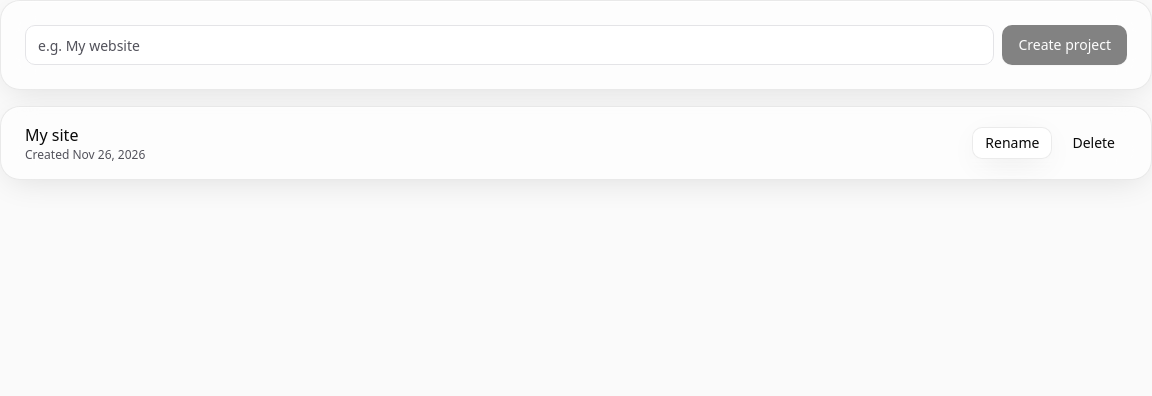
Test: delete › shows the server's error if the delete fails
Click the button "Delete".
click(1094, 143)  # box [1060, 127, 1127, 159]
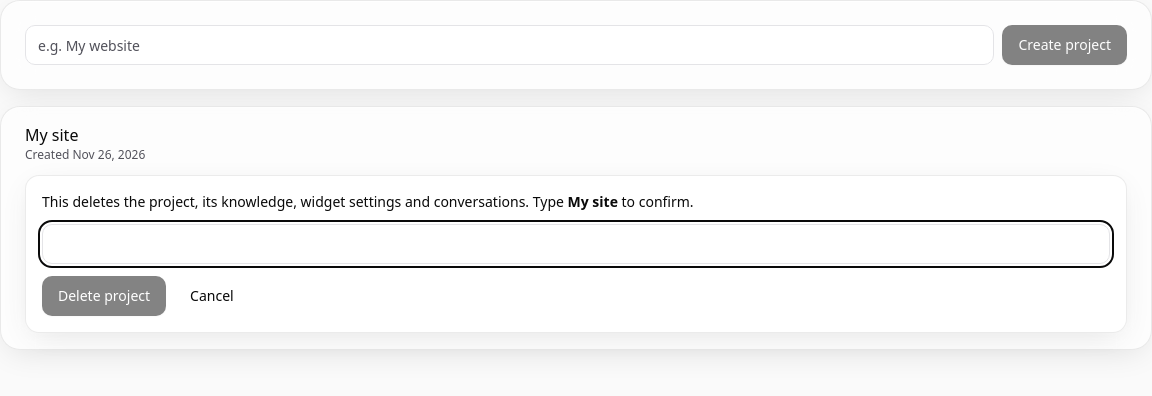
Type "My site" into the field named "Project name to confirm".
click(576, 244); type("My site")  # box [42, 224, 1110, 264]
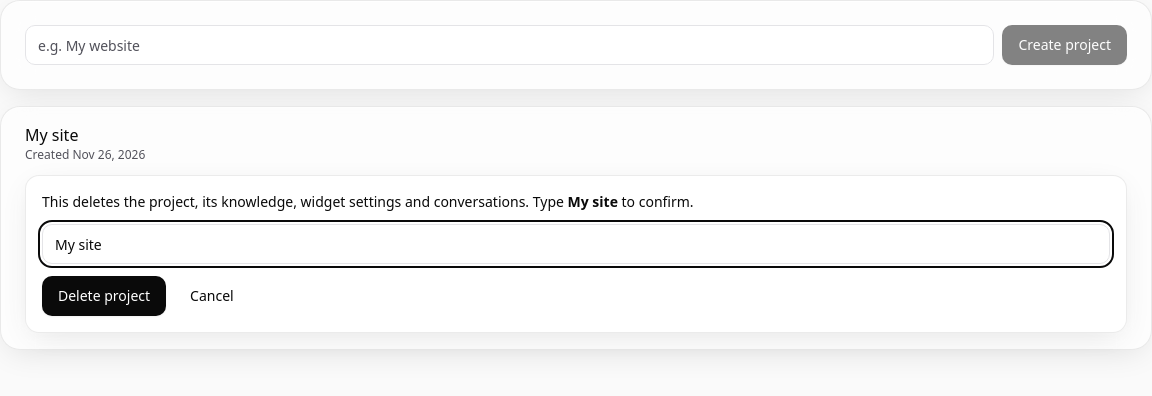
Click the button "Delete project".
click(104, 296)  # box [42, 276, 166, 316]
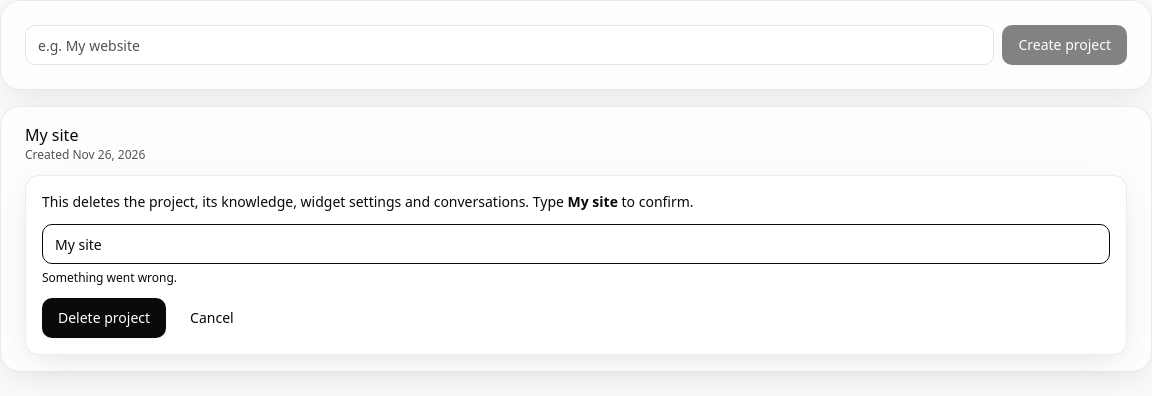
Now the text "Something went wrong." is shown, box [42, 269, 177, 286]
